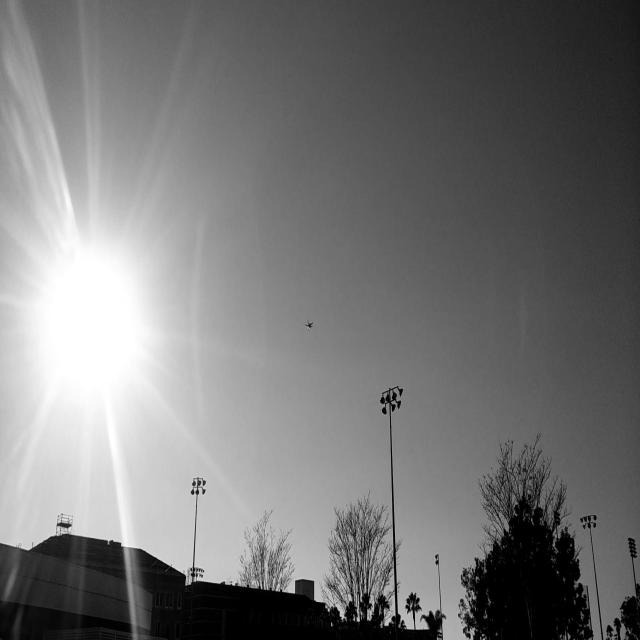drone: (302, 313, 316, 334)
